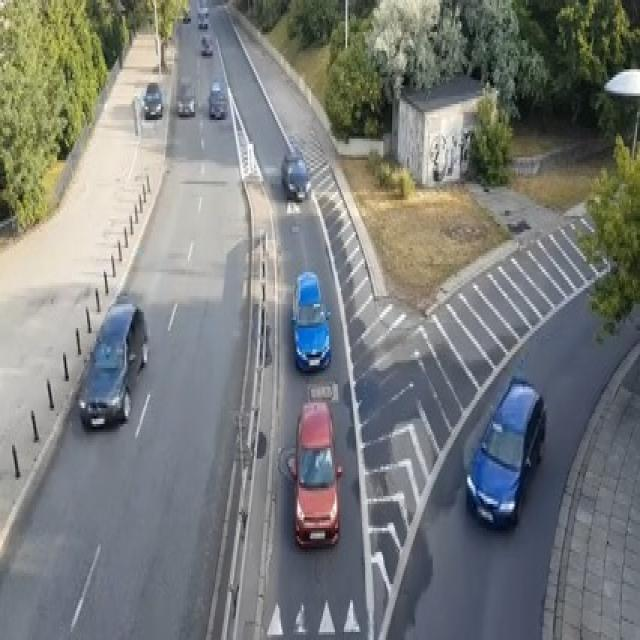car: (466, 376, 545, 528), (78, 302, 149, 429), (287, 400, 342, 549), (290, 269, 330, 371), (281, 152, 311, 200), (142, 80, 164, 117), (207, 80, 227, 117), (176, 77, 195, 115), (200, 35, 212, 56), (197, 10, 207, 27), (197, 5, 209, 16), (183, 8, 191, 21)
